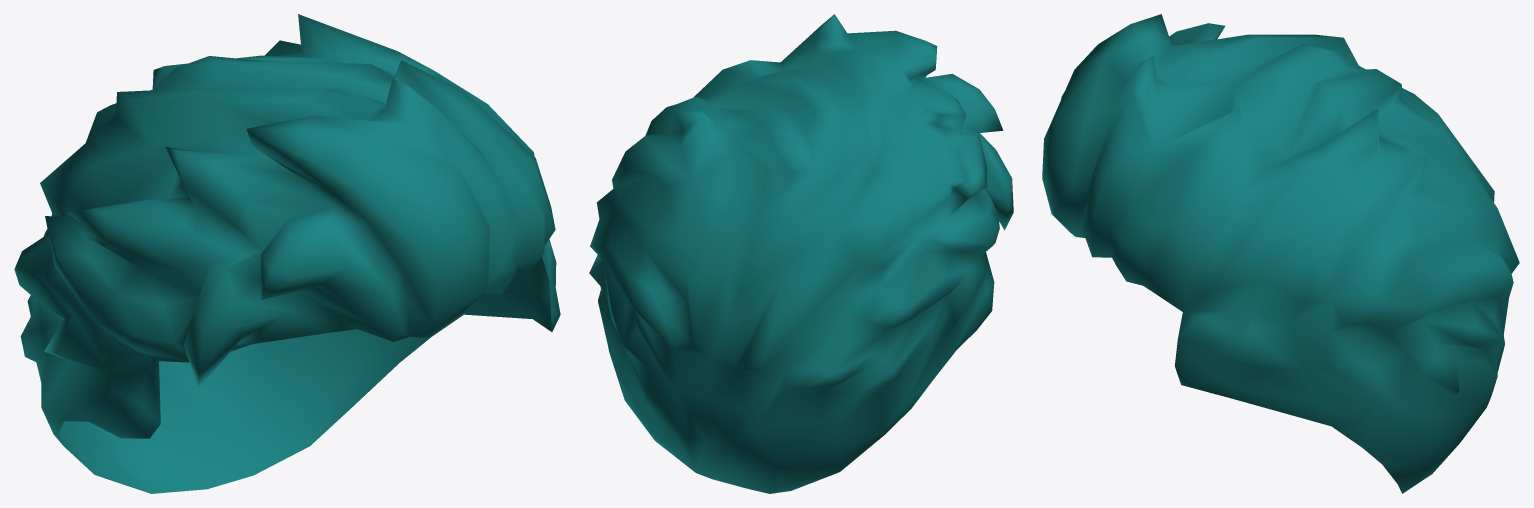
Rendered from PC_M_Muscle_Hair.fbx.
3 views of the same model, side by side, from view 1: azimuth 30°, elevation 25°; view 2: azimuth 150°, elevation 25°; view 3: azimuth 270°, elevation 25° (orthographic). The views are drawn at different scales.
Parts seen in each view (by area): view 1: PC_M_Muscle_Hair; view 2: PC_M_Muscle_Hair; view 3: PC_M_Muscle_Hair.
Boxes of the visible parts, left/top/right/bottom form: PC_M_Muscle_Hair: left=14, top=14, right=560, bottom=493; PC_M_Muscle_Hair: left=589, top=14, right=1013, bottom=493; PC_M_Muscle_Hair: left=1042, top=14, right=1519, bottom=493.
Bounding box in the file's own units: 43.21 × 45.53 × 46.09.
